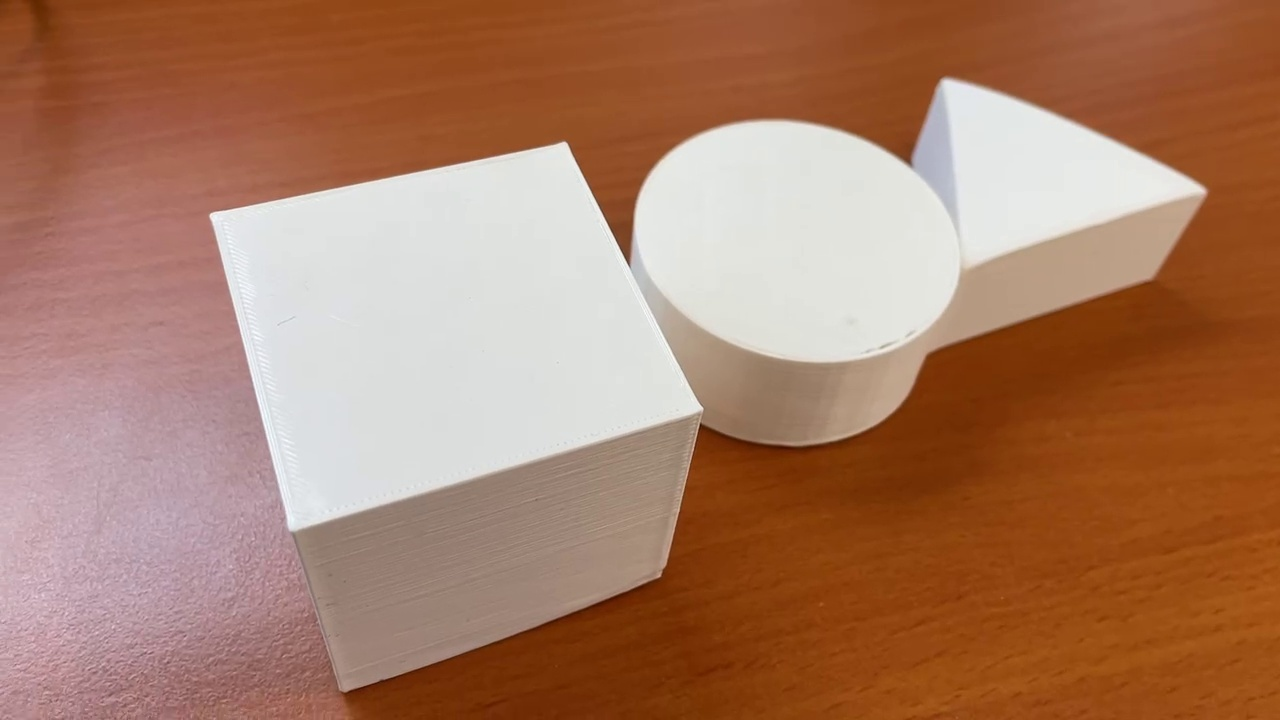Cube: (206, 143, 703, 695)
Cylinder_short: (621, 117, 962, 450)
Triangle_short: (908, 75, 1208, 344)
